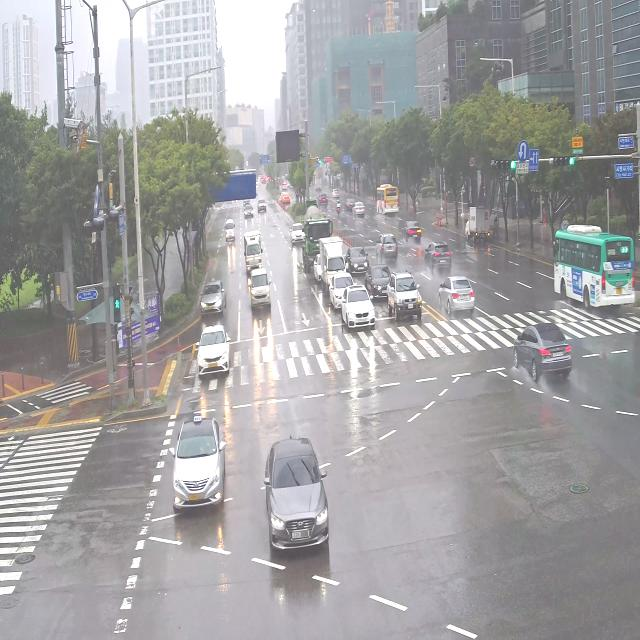Bus: (541, 215, 640, 317), (370, 175, 400, 221)
Car: (161, 400, 241, 538), (259, 432, 335, 555), (504, 315, 579, 390), (189, 310, 245, 389), (431, 261, 483, 327), (382, 263, 431, 329), (338, 278, 386, 344), (422, 240, 466, 286), (342, 237, 377, 292), (372, 221, 406, 270), (248, 257, 276, 316), (202, 271, 234, 321), (364, 256, 392, 299), (329, 270, 354, 310), (402, 217, 422, 244), (290, 215, 305, 244), (222, 214, 236, 244), (312, 250, 324, 281), (316, 190, 331, 212), (353, 198, 368, 218), (256, 195, 268, 215), (344, 194, 356, 213), (243, 203, 255, 220), (242, 194, 253, 206), (282, 192, 292, 205), (330, 186, 340, 198)
Motorcycle: (334, 196, 343, 216)
Truck: (295, 195, 336, 282), (317, 228, 347, 296), (462, 200, 497, 250), (242, 221, 268, 278), (314, 172, 323, 194)
